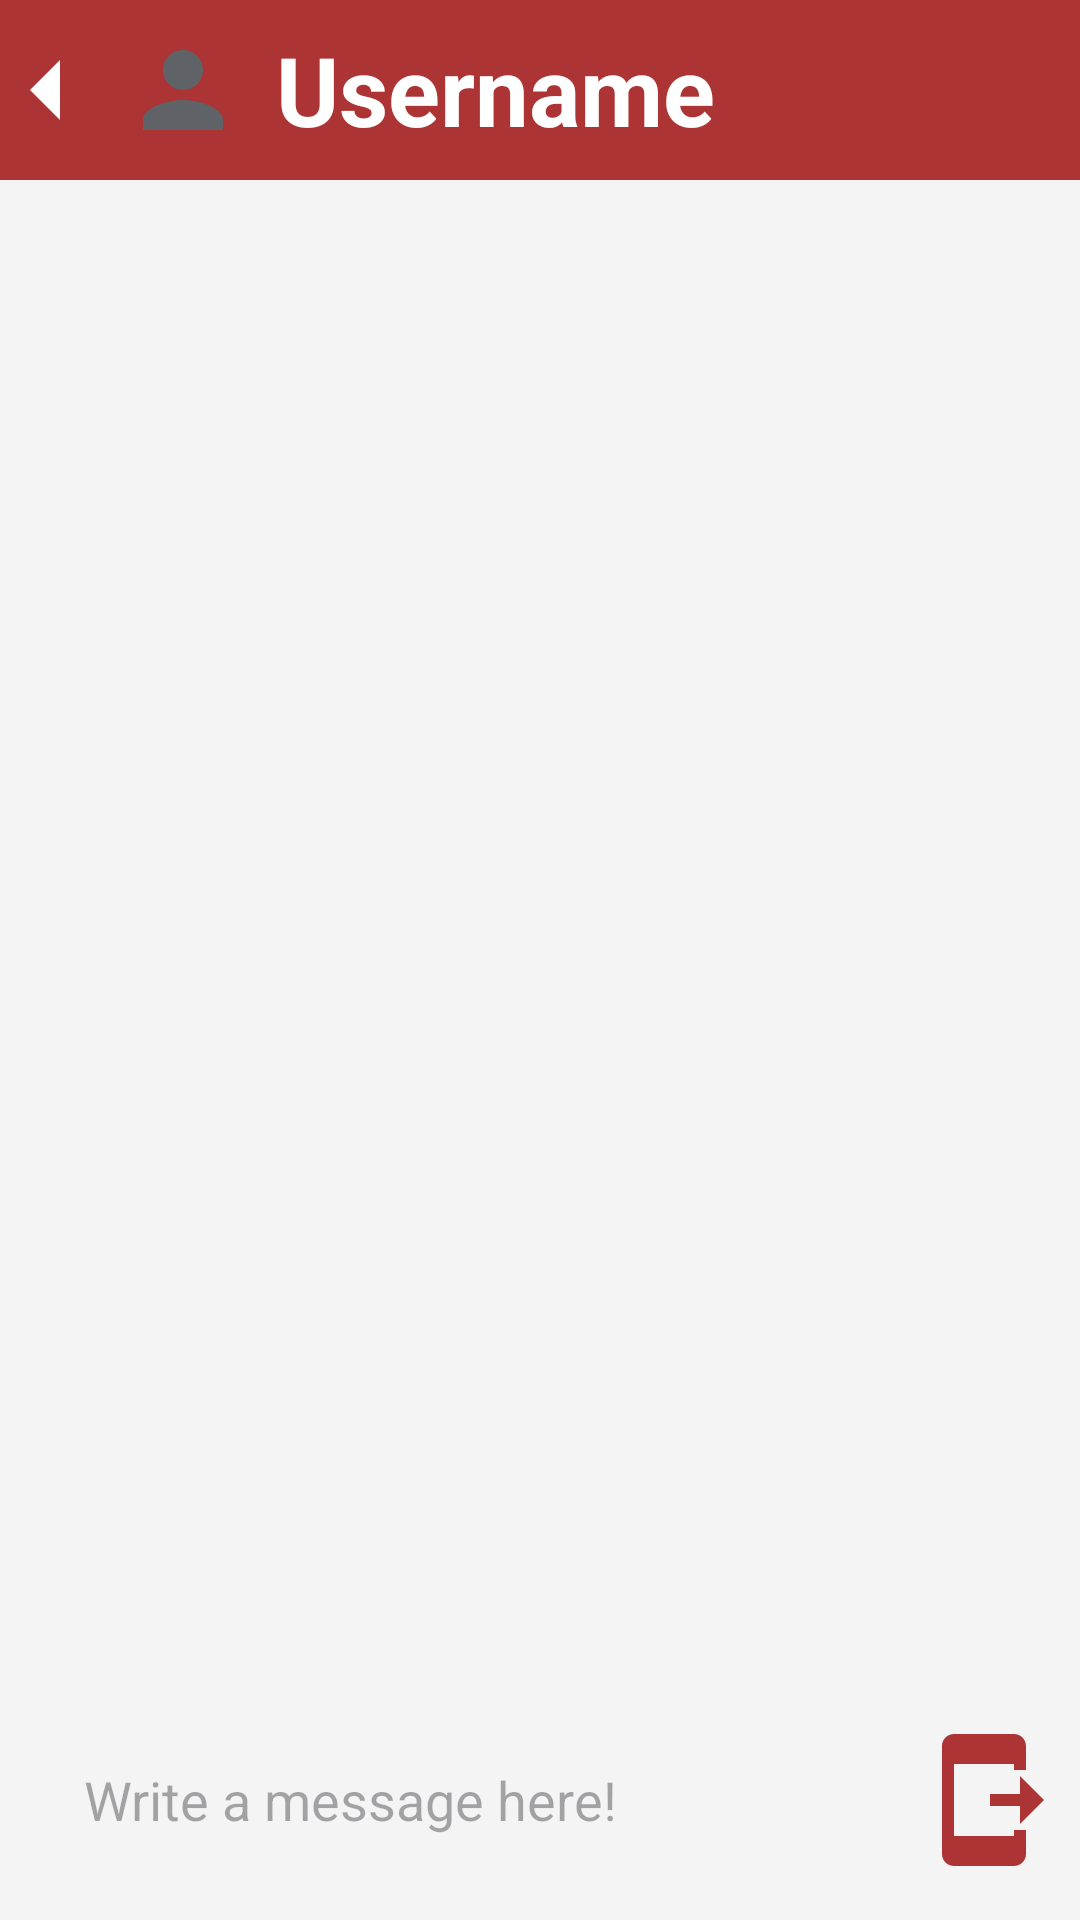

Screen size 1080x1920. Icon name, then its center in pixels as point (x, y):
person: point (183, 90)
send mobile: point (993, 1800)
